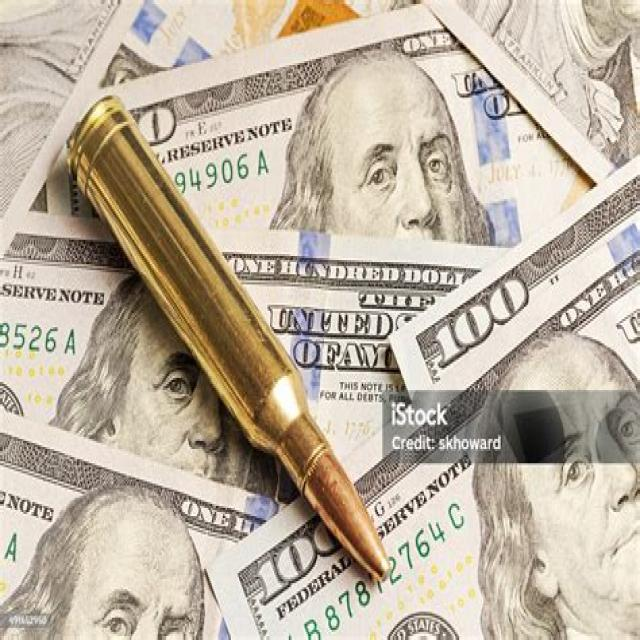Hundred: (221, 251, 640, 638), (0, 212, 532, 503), (51, 1, 588, 236), (0, 410, 278, 640)
